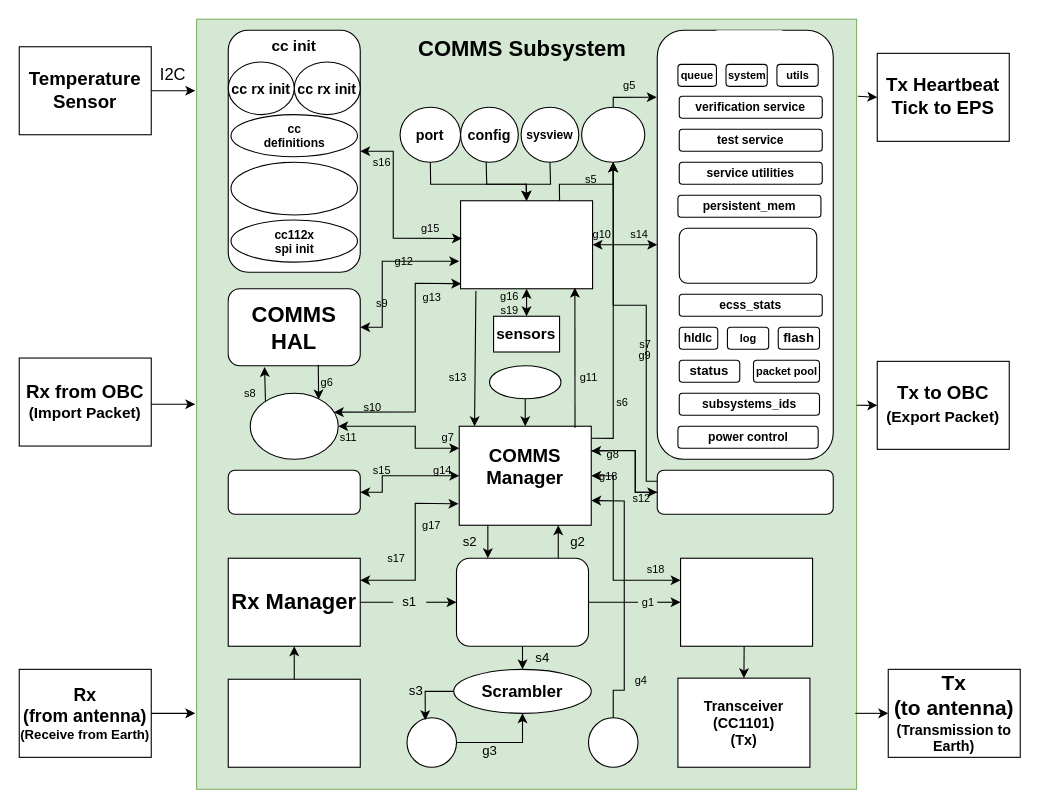
This 1040x809 diagram has some shape labels left out. The shapes that lost their labels are listed below. From the top down, each one's box as (x1, y1, x2, y2) in pixels, then its label:
(716, 30, 782, 53): Services
(580, 106, 645, 162): stats
(230, 161, 358, 215): cc commands
(459, 200, 593, 289): OS
(678, 227, 817, 283): Housekeeping & housekeeping services
(488, 365, 561, 399): sha256
(249, 392, 338, 459): UPSat
(227, 469, 360, 514): large data services
(656, 469, 833, 514): WOD handling
(455, 557, 588, 646): AX.25 Encoder / Decoder
(679, 557, 813, 646): Tx Manager
(227, 678, 360, 767): Transceiver (CC1101) (Rx)
(406, 717, 457, 767): LFSR
(587, 717, 638, 767): CW
